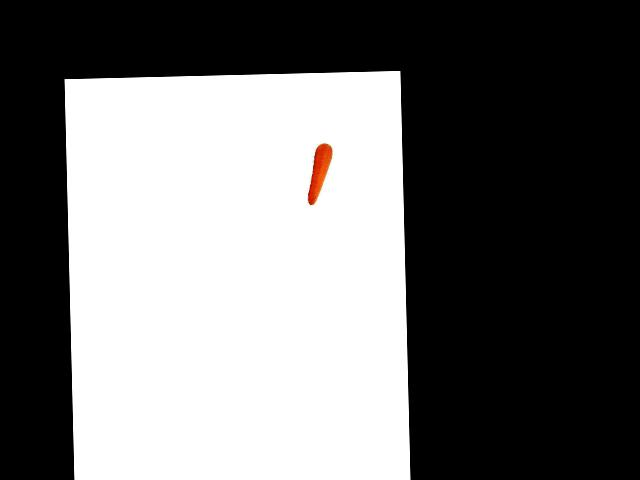carrot: (306, 142, 336, 208)
